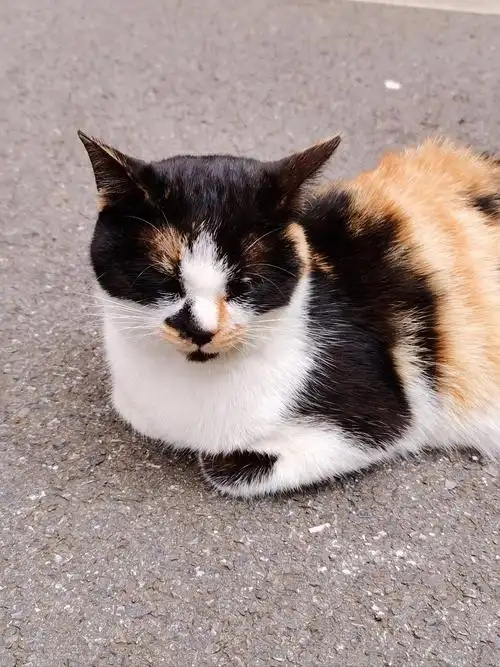三花猫: (79, 132, 442, 495)
